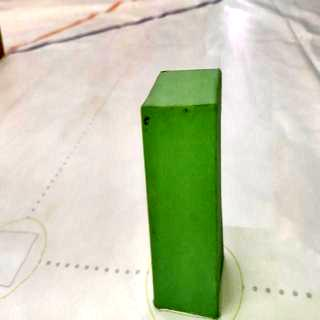greenbox: (142, 67, 222, 319)
